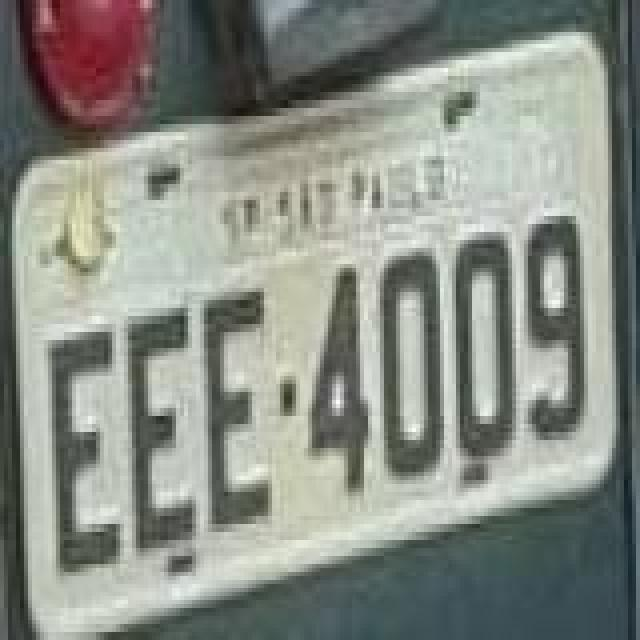4: (308, 260, 372, 492)
9: (522, 212, 590, 444)
E: (48, 324, 120, 580), (128, 306, 200, 558), (200, 282, 272, 534)
O: (380, 252, 444, 484), (456, 236, 520, 468)
